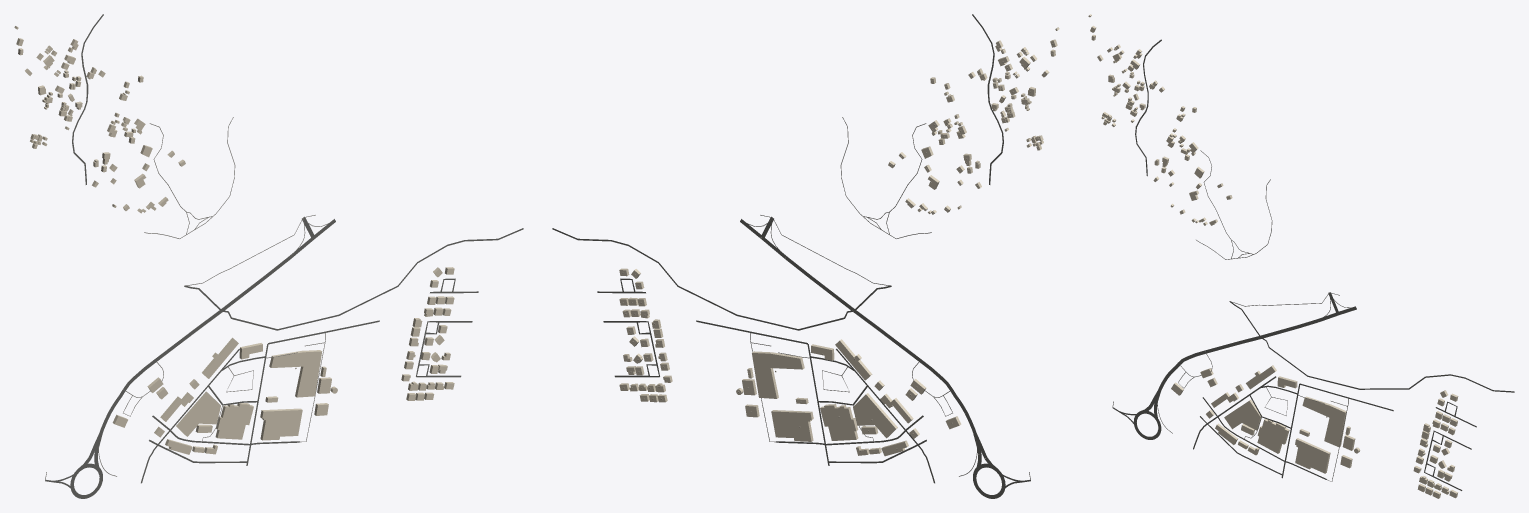
Rendered from historic-palestine-07_15_3491_3099.glb.
3 renders of one model, left to right at view 1: azimuth 30°, elevation 25°; view 2: azimuth 150°, elevation 25°; view 3: azimuth 330°, elevation 25°, orthographic. The views are drawn at different scales.
Visible parts, largest first — view 1: Building_.008, Building_.009, Building_, Building_.045, Road .025, Road 204.003; view 2: Building_.008, Building_.009, Building_, Building_.045, Road .025, Road 204.003; view 3: Building_.008, Building_.009, Building_, Building_.045, Road .025, Road 204.003.
Part boxes in pixels (bbox=[...]): Building_.008: bbox=[269, 350, 322, 397]; Building_.009: bbox=[260, 408, 302, 440]; Building_: bbox=[215, 403, 253, 439]; Building_.045: bbox=[176, 391, 220, 436]; Road .025: bbox=[184, 228, 523, 330]; Road 204.003: bbox=[155, 256, 290, 361]; Building_.008: bbox=[752, 351, 804, 398]; Building_.009: bbox=[771, 410, 813, 441]; Building_: bbox=[820, 404, 858, 440]; Building_.045: bbox=[853, 393, 897, 438]; Road .025: bbox=[552, 228, 891, 330]; Road 204.003: bbox=[785, 256, 920, 361]; Building_.008: bbox=[1302, 396, 1346, 446]; Building_.009: bbox=[1295, 438, 1330, 473]; Building_: bbox=[1257, 419, 1289, 453]; Building_.045: bbox=[1224, 400, 1261, 430]; Road .025: bbox=[1229, 301, 1514, 392]; Road 204.003: bbox=[1205, 319, 1318, 353].
Size of the model in its own units: 1110 by 1036 by 8.7.
